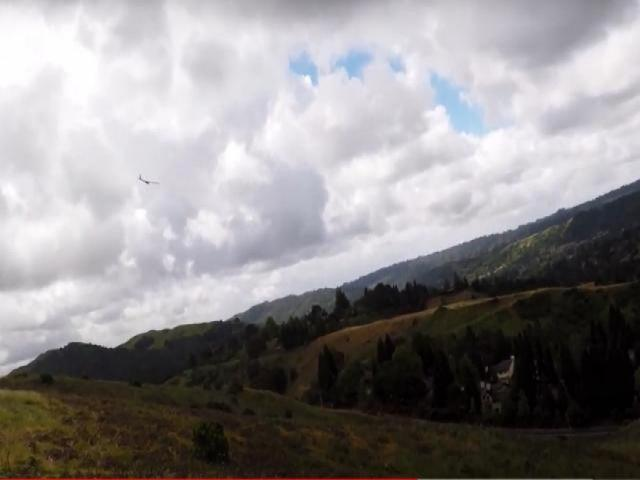iha: (134, 170, 156, 187)
